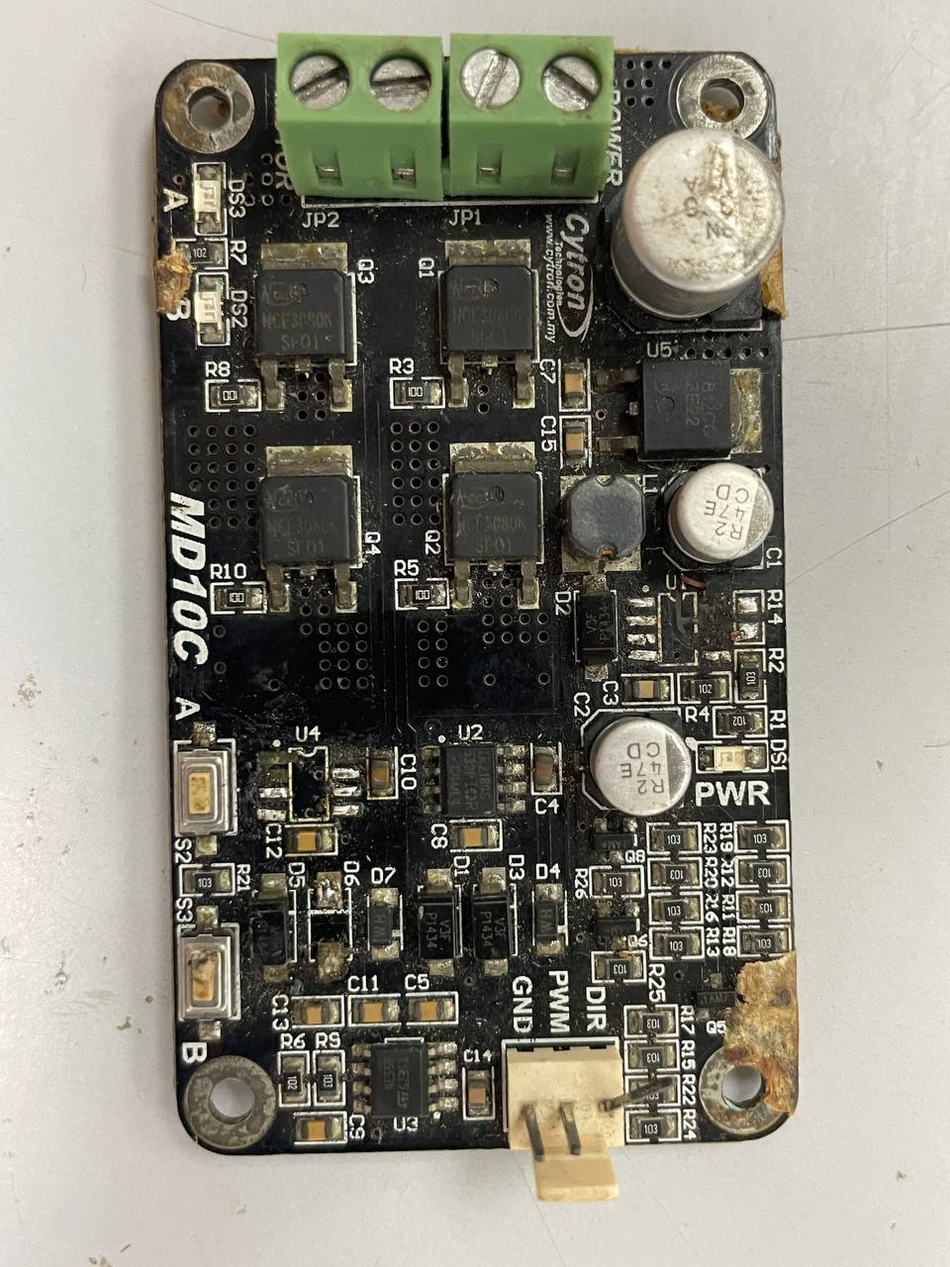bent_pin: (594, 1067, 683, 1123)
missing_comp: (280, 742, 336, 831), (304, 881, 353, 975), (655, 587, 708, 670), (729, 589, 770, 649)
